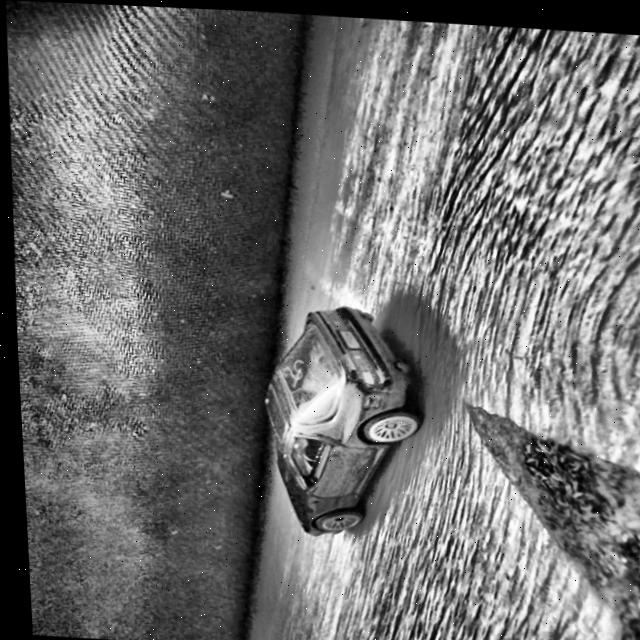car: (251, 296, 425, 538)
